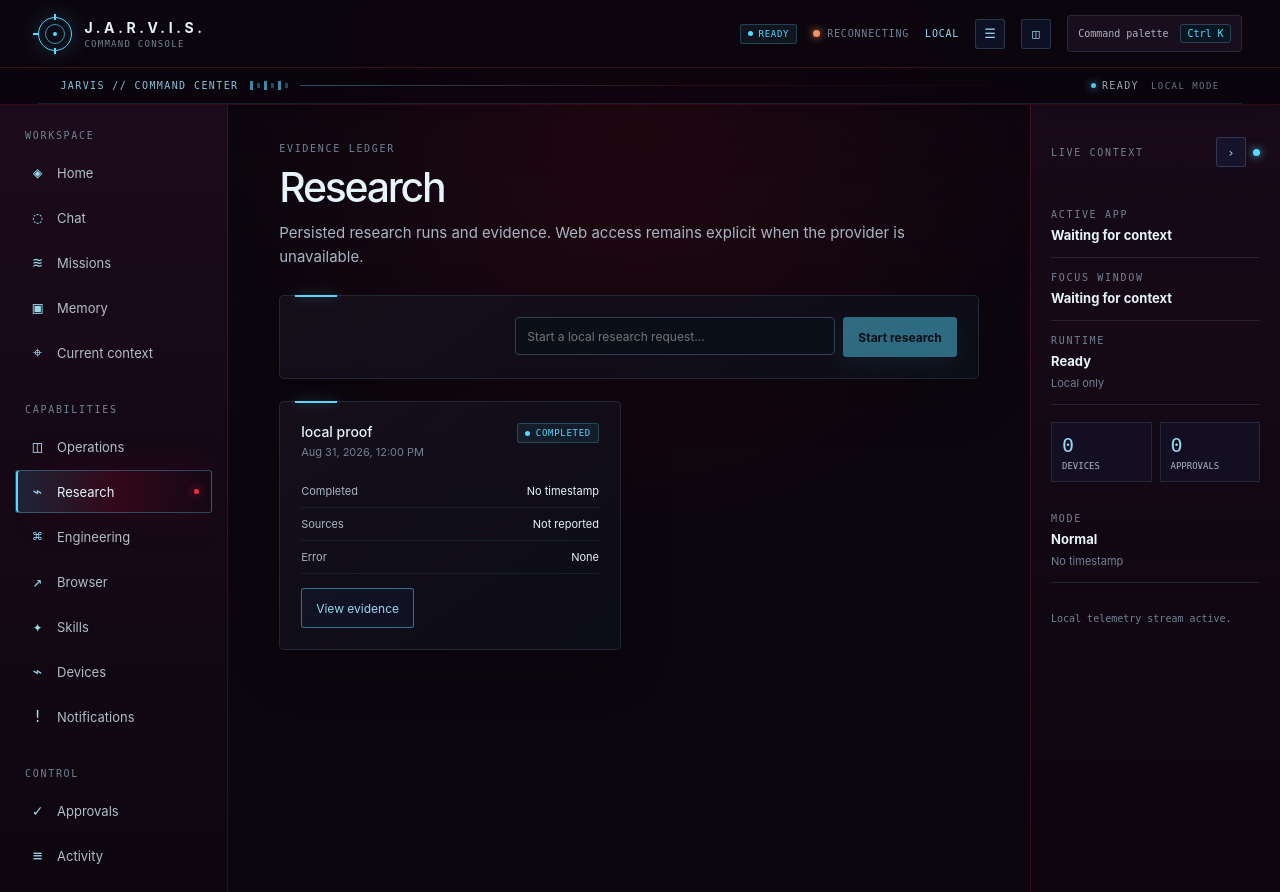
Phase 14 final closure screens › renders non-empty research evidence from the canonical response envelope
The image size is (1280, 892).
Click the button "View evidence".
click(358, 608)  # box x1=301 y1=588 x2=414 y2=628
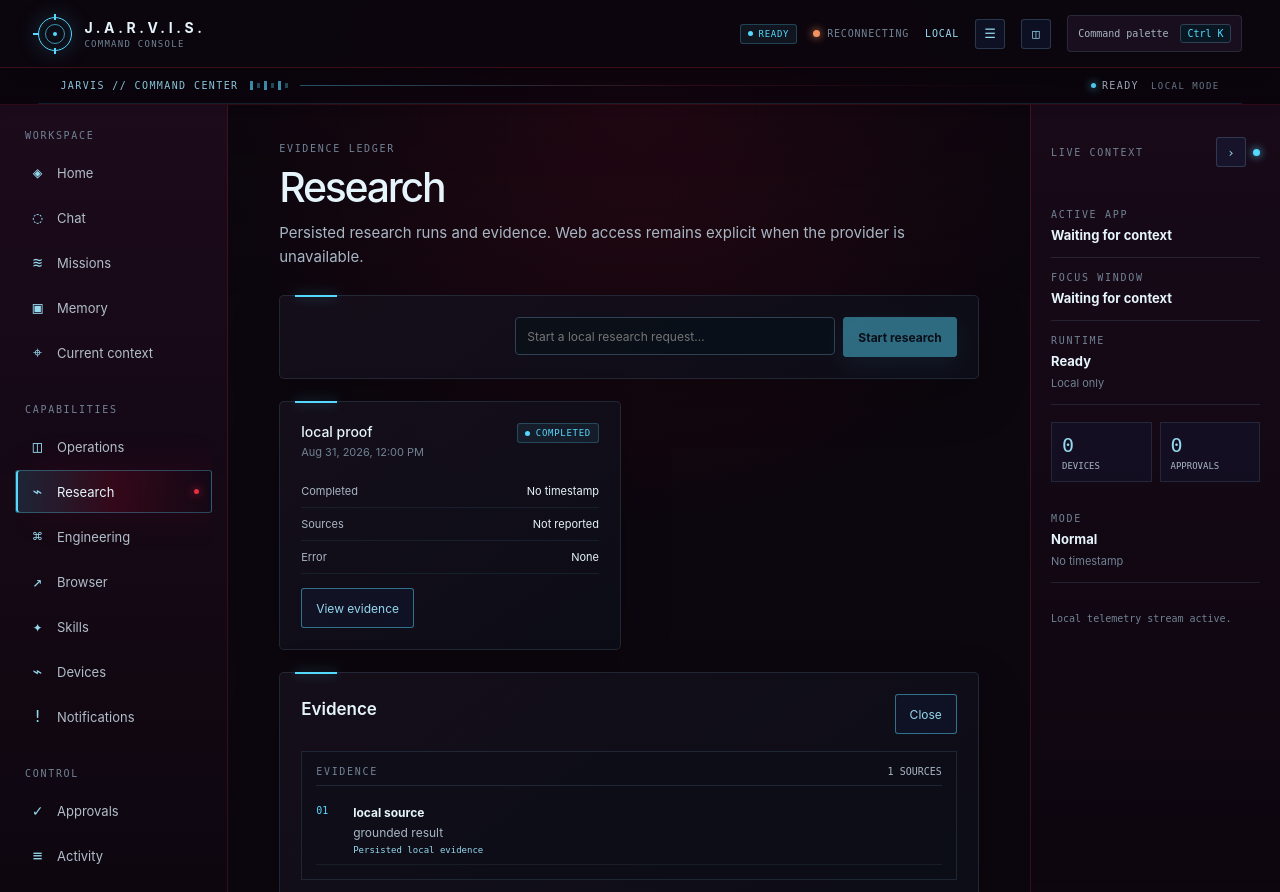
Check: the text "grounded result" is shown, box x1=353 y1=825 x2=443 y2=840
